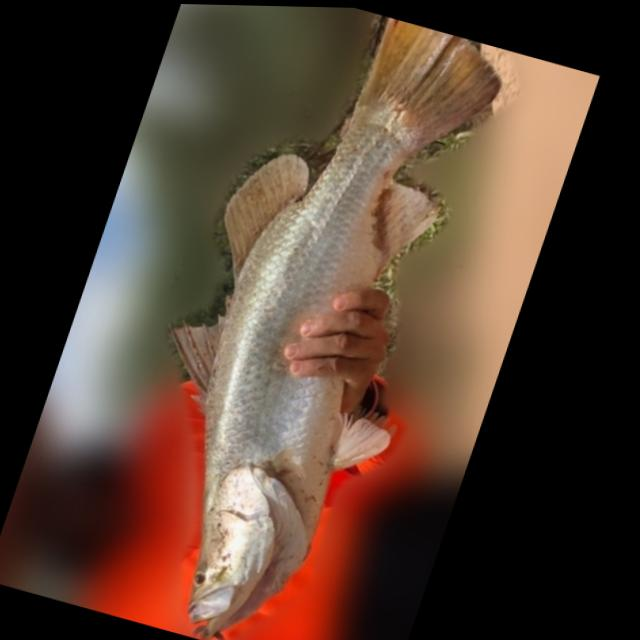Seabass: (68, 3, 525, 640)
